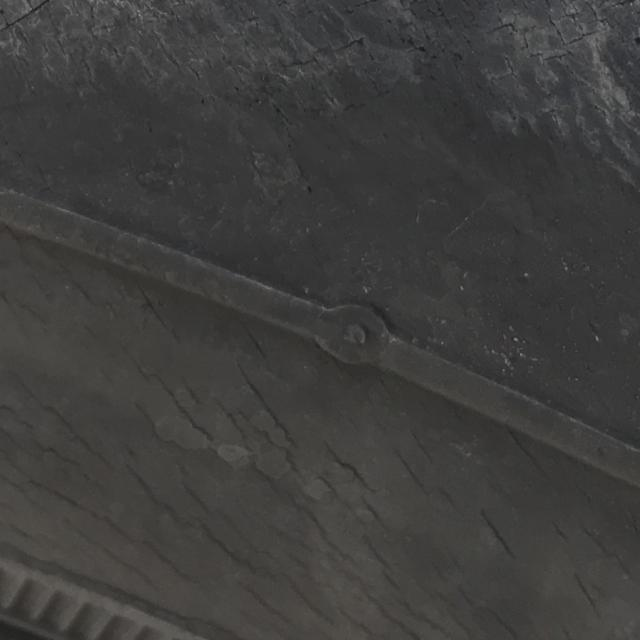Cracks: (0, 202, 639, 639), (0, 0, 640, 199)
